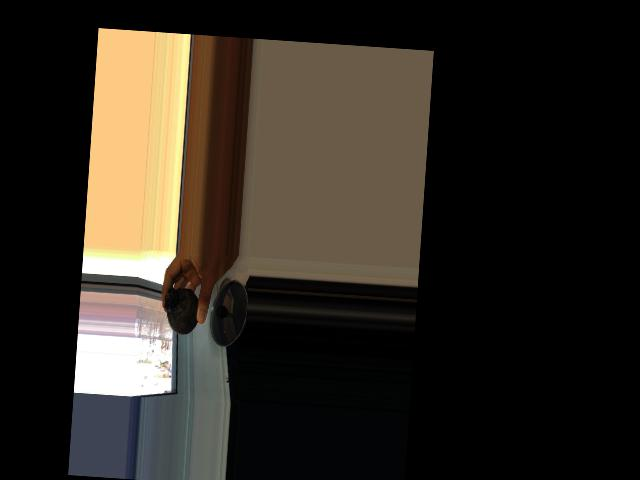beet: (162, 273, 201, 336)
